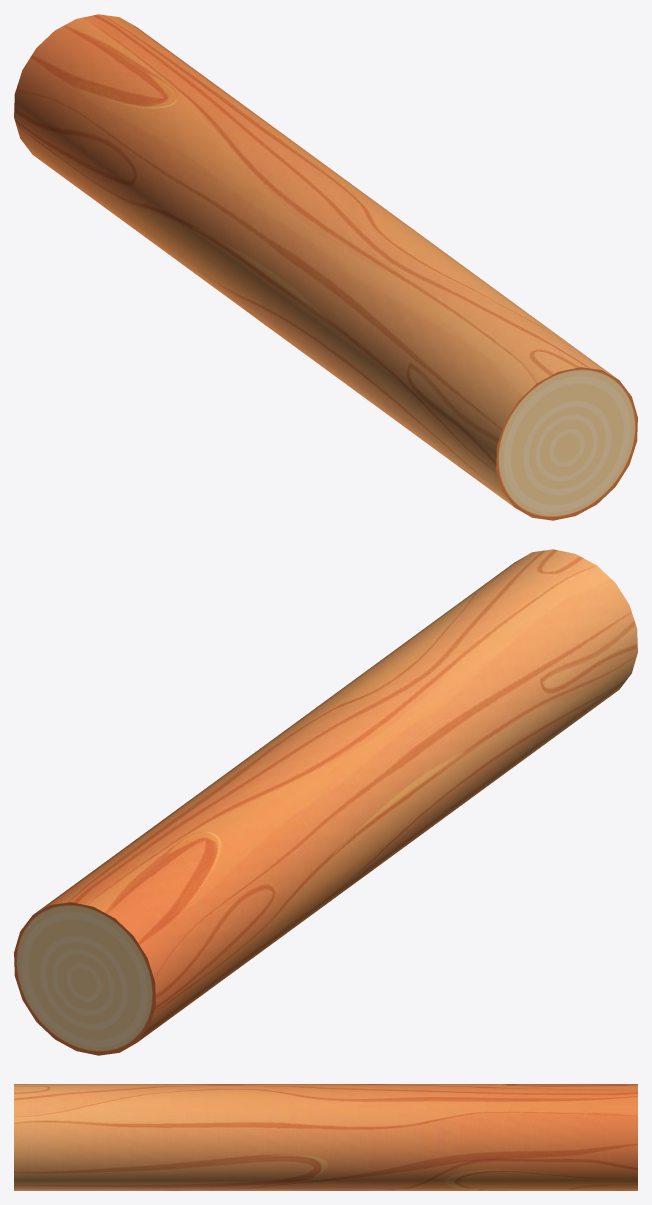
Rendered from Wood.fbx.
The picture shows the model from 3 angles, top to bottom: view 1: azimuth 30°, elevation 25°; view 2: azimuth 150°, elevation 25°; view 3: azimuth 270°, elevation 25°; orthographic projection. The views are drawn at different scales.
Parts seen in each view (by area): view 1: Wood; view 2: Wood; view 3: Wood.
Boxes of the visible parts, bbox=[...] form: Wood: bbox=[14, 14, 637, 520]; Wood: bbox=[14, 549, 637, 1055]; Wood: bbox=[14, 1084, 637, 1190].
Bounding box in the file's own units: 59.56 × 59.56 × 350.
